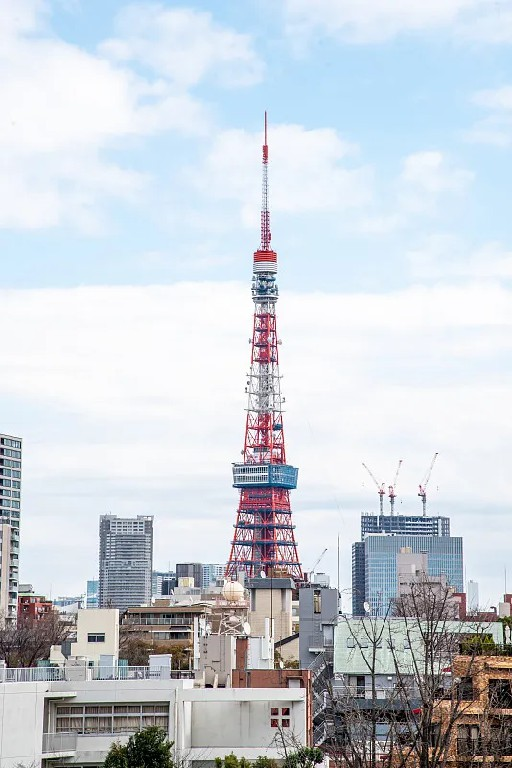Tokyo: (227, 106, 306, 586)
